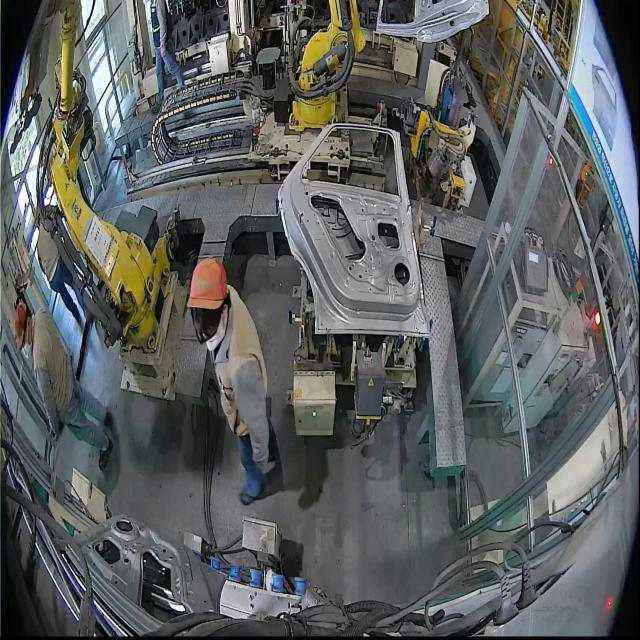Person: (187, 257, 277, 505), (13, 298, 114, 472), (35, 204, 87, 331), (151, 0, 186, 104)
